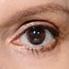eye: (27, 27, 46, 45)
